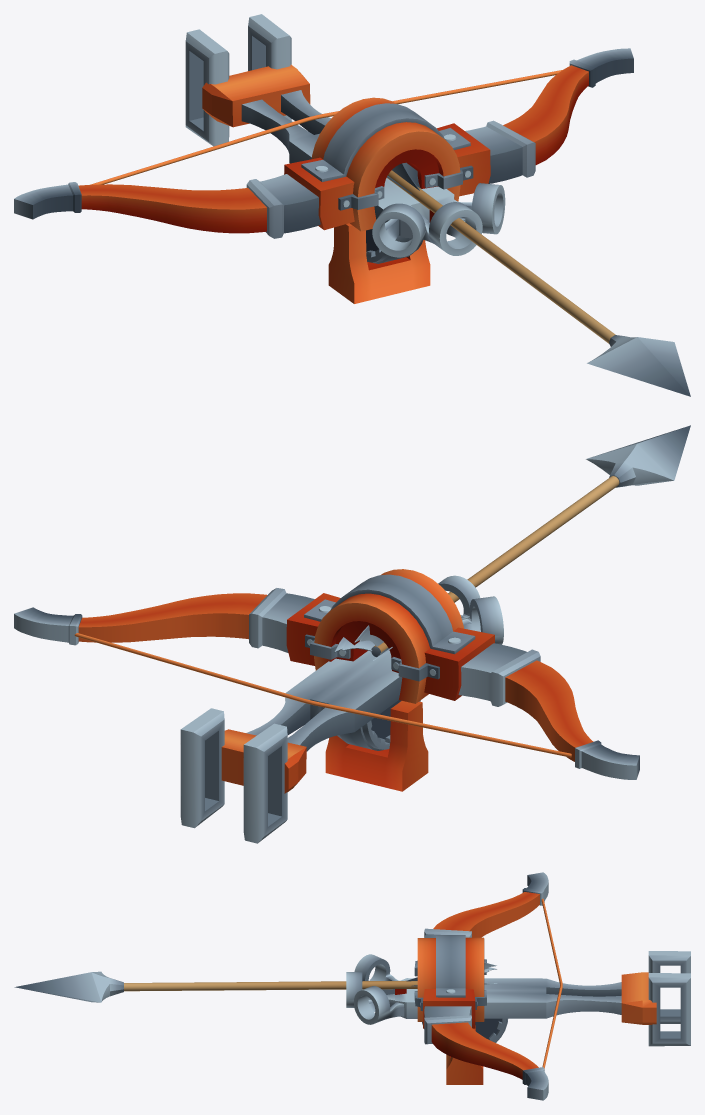
File: Bow_Gun.fbx
3 renders of one model, top to bottom at view 1: azimuth 30°, elevation 25°; view 2: azimuth 150°, elevation 25°; view 3: azimuth 270°, elevation 25°, orthographic. The views are drawn at different scales.
Visible parts, largest first — view 1: Plane.003, polySurface5, Plane.004, Cube.001, Cylinder.001, Cylinder.014, Vert.001, Cylinder.015; view 2: Plane.003, polySurface5, Plane.004, Cube.001, Vert.001, Cylinder.014, Cylinder.001; view 3: Plane.003, polySurface5, Plane.004, Cylinder.015, Cube.001, Cylinder.014, Cylinder.001, Vert.001.
Boxes of the visible parts, x1,y1,x2,y2 form: Plane.003: (14, 48, 633, 238); polySurface5: (185, 14, 454, 263); Plane.004: (387, 162, 690, 396); Cube.001: (328, 223, 430, 303); Cylinder.001: (400, 202, 482, 255); Cylinder.014: (372, 203, 425, 257); Vert.001: (90, 70, 562, 184); Cylinder.015: (454, 183, 505, 234); Plane.003: (14, 569, 639, 779); polySurface5: (180, 650, 420, 843); Plane.004: (334, 425, 690, 660); Cube.001: (325, 701, 428, 791); Vert.001: (74, 633, 571, 757); Cylinder.014: (462, 596, 503, 644); Cylinder.001: (438, 575, 480, 620); Plane.003: (414, 872, 548, 1100); polySurface5: (395, 951, 690, 1046); Plane.004: (14, 962, 497, 1002); Cylinder.015: (353, 986, 404, 1024); Cube.001: (446, 1025, 483, 1084); Cylinder.014: (354, 954, 399, 981); Cylinder.001: (346, 972, 394, 1007); Vert.001: (541, 898, 562, 1068).
Bounding box in the file's own units: 3.35 × 0.9418 × 4.4.
Materials: 1 (1 with a texture image).
